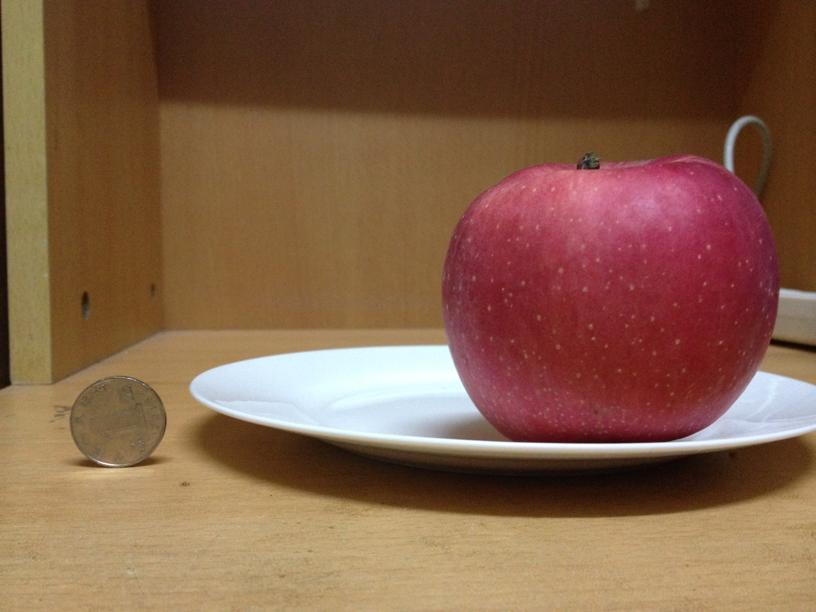apple: (442, 152, 778, 442)
coin: (67, 380, 163, 456)
